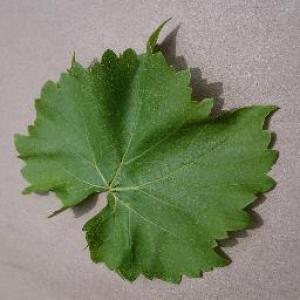Folha: (13, 16, 280, 284)
